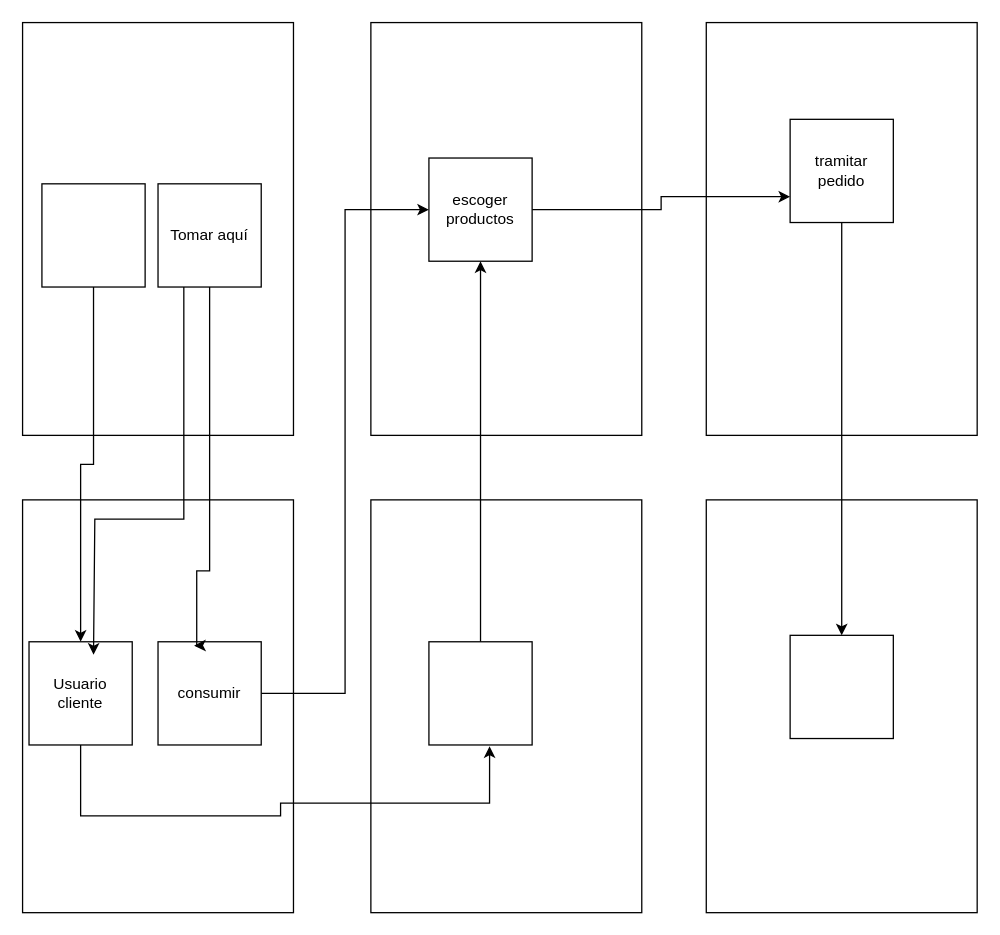
Some shapes in this 1000 by 935 pixel diagram are drawn without their labels. Here are the shapes that lost their labels. From the top down, the centre of each, then its label:
[93,235]: Pedir para Casa
[480,692]: reserva
[841,686]: pedido correcto
